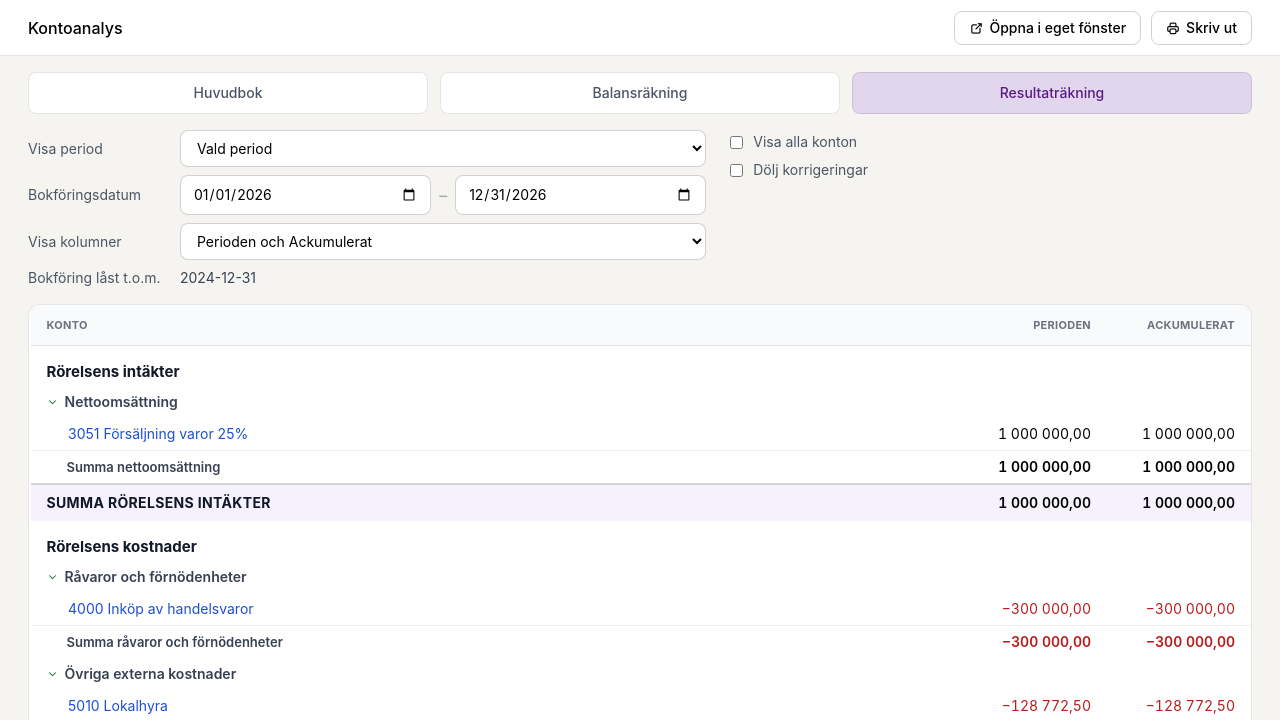
Test case: Kontoanalys – Resultaträkning › konto expanderar → transaktioner; verifikationsrad expanderar VerDetail inline (ingen navigation)
Expected: the text "Rörelsens intäkter" is shown, [30,346,1251,386]
expandera kontot 4000 → visar transaktionen L50
Click the text "4000 Inköp av handelsvaror −300 000,00 −300 000,00" at coordinates (86, 608), box [30,593,1251,626]
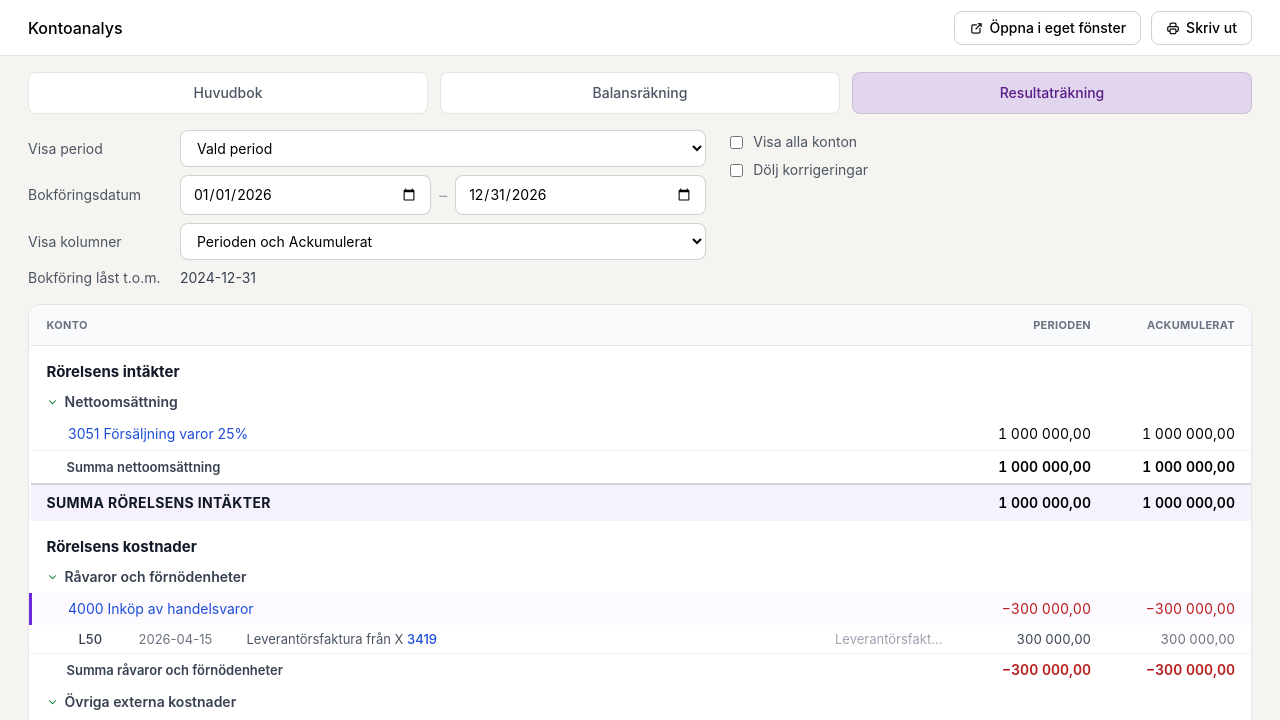
Expected: the text "L50" is shown, [78,631,102,647]
Click the text "L50" at coordinates (175, 639), box [30,625,1251,654]
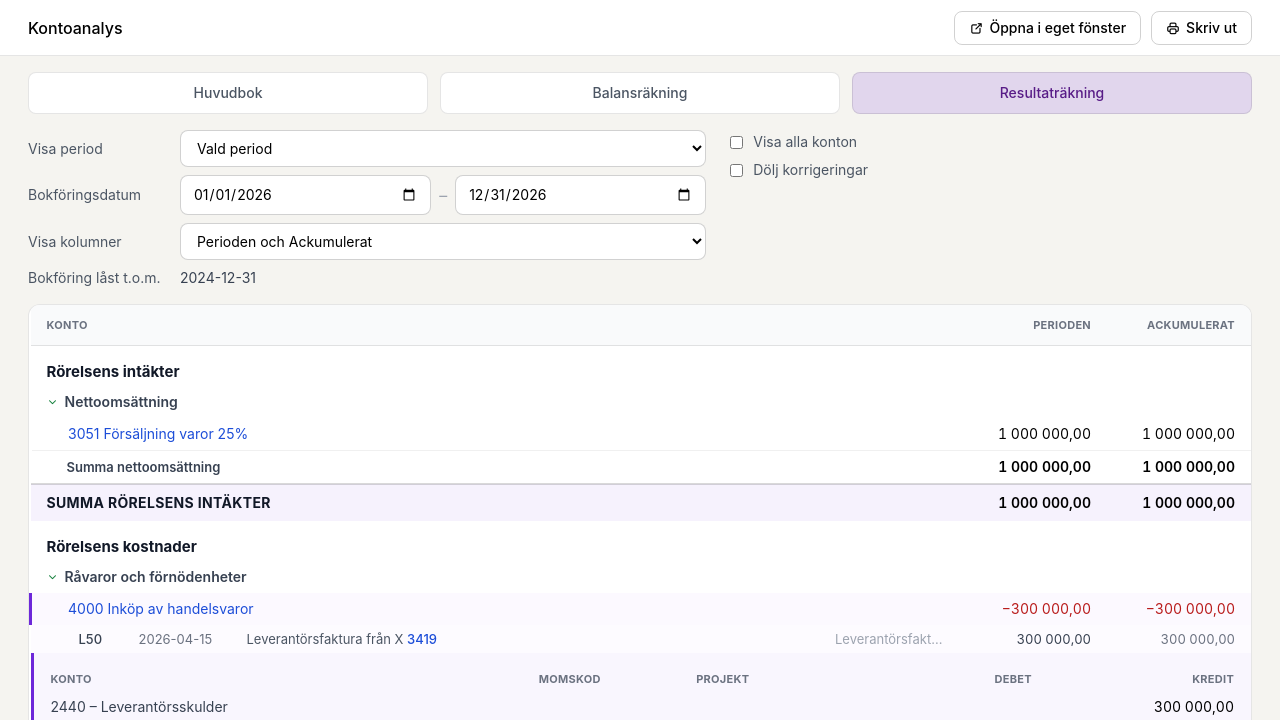
Expected: the text "2440 – Leverantörsskulder" is shown, [50,693,538,719]
